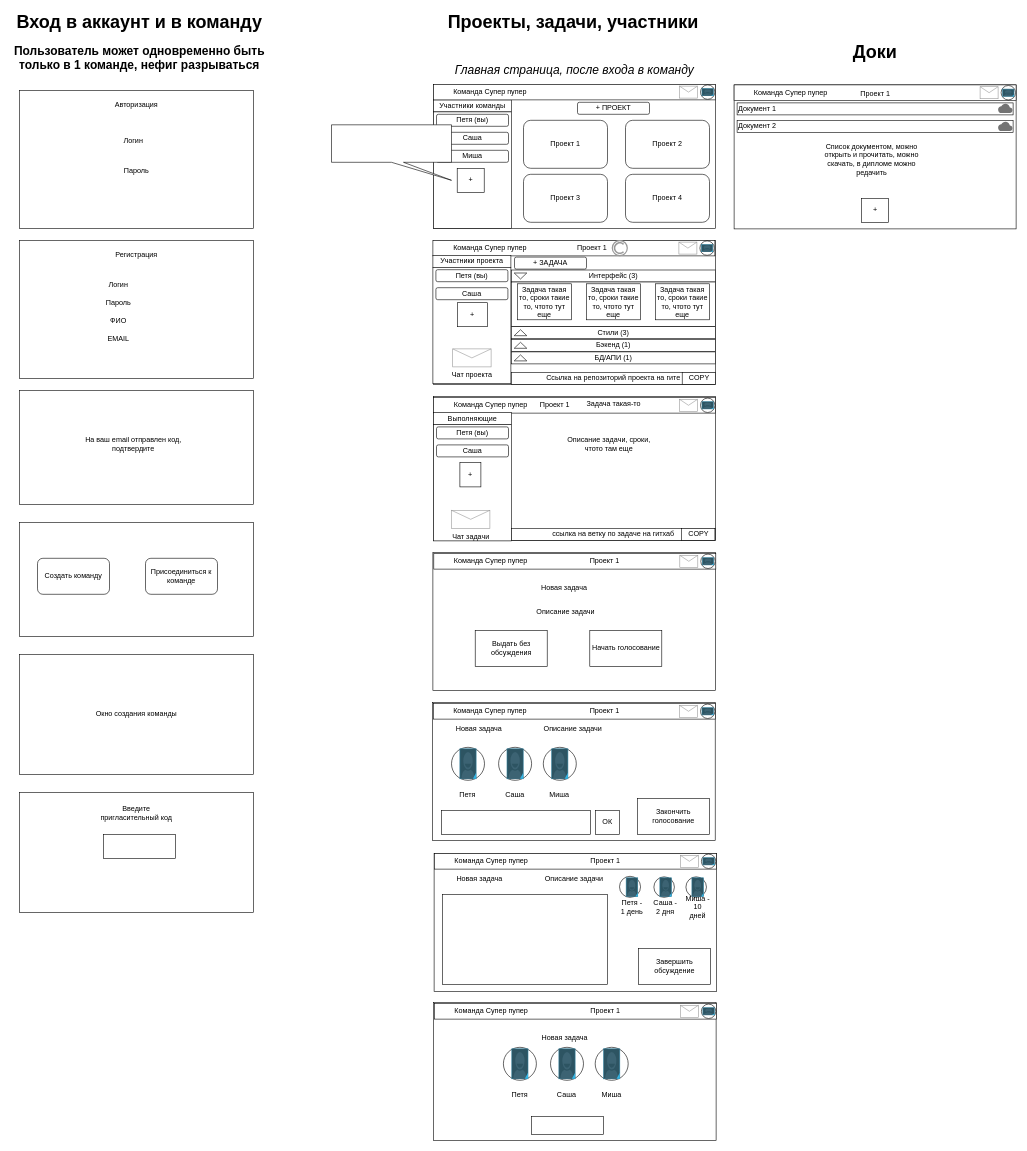
The diagram is 1027 pixels wide and 1151 high, and some of its shapes have lost their labels. Here are the shapes that lost their labels. From the top down, the centre of each, then its label:
the point at 391,152: Скопирован код приглашения, успейте отправить его, через 5 минут он обнулиться
the point at 619,248: Доки по проекту
the point at 515,822: Сколько времени вам понадобиться на решение задачи?
the point at 525,939: Чат, где обсуждение почему сколько времени
the point at 567,1125: Выдать задачу
